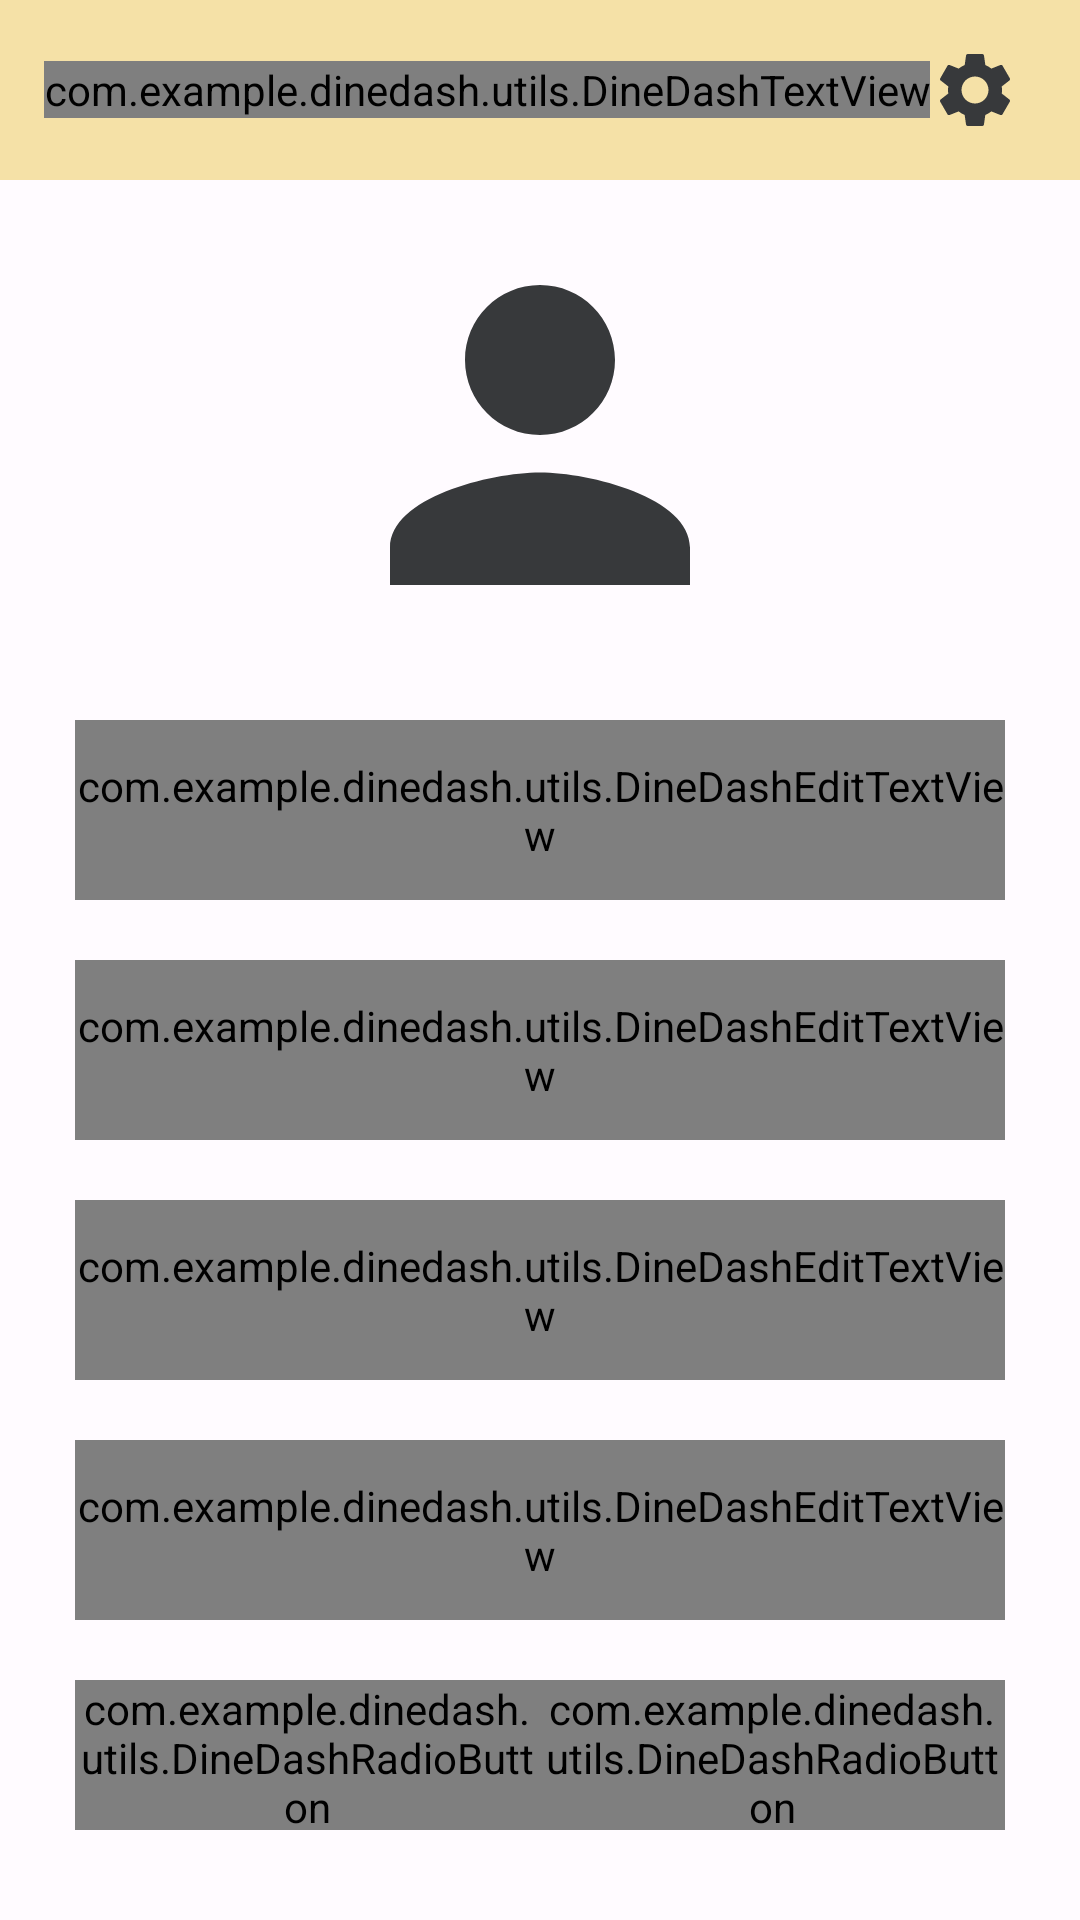

Screen size 1080w x 1920h. Icon name, then its center in pixels as [x,y]:
person picture: [540,435]
settings: [975,90]
